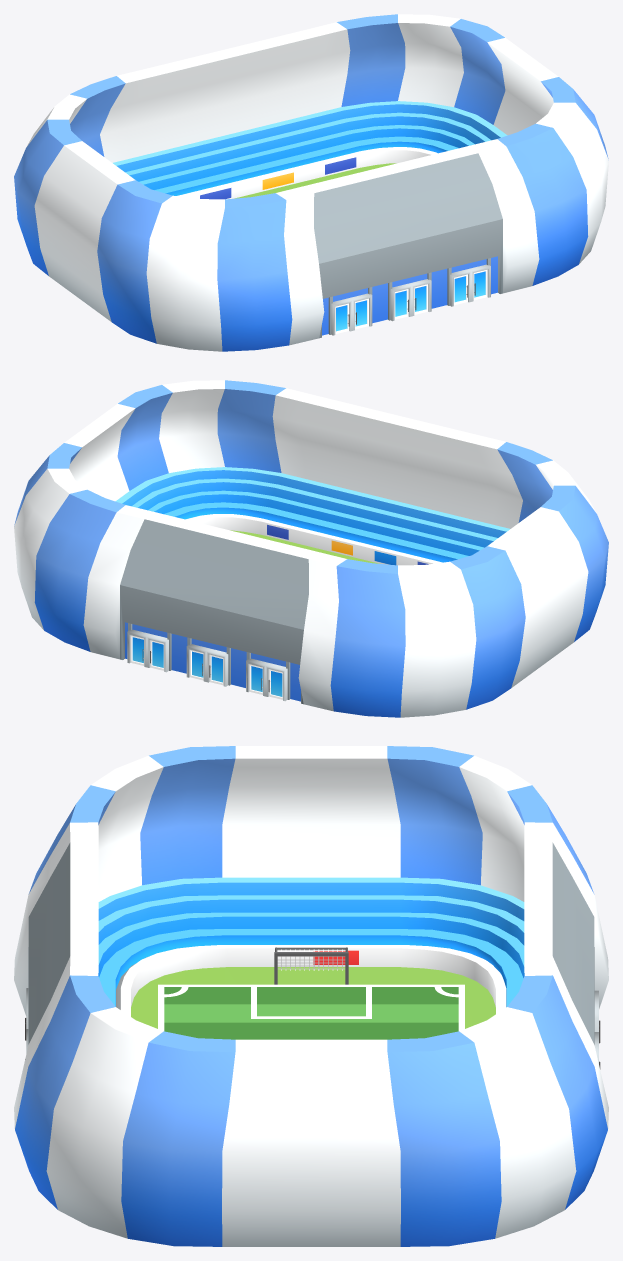
The model's file is Stadium_04.glb.
3 renders of one model, top to bottom at view 1: azimuth 30°, elevation 25°; view 2: azimuth 150°, elevation 25°; view 3: azimuth 270°, elevation 25°, orthographic. The views are drawn at different scales.
Parts seen in each view (by area): view 1: Stadium_04; view 2: Stadium_04; view 3: Stadium_04.
Boxes of the visible parts, left/top/right/bottom form: Stadium_04: left=14, top=14, right=608, bottom=351; Stadium_04: left=14, top=380, right=608, bottom=717; Stadium_04: left=14, top=746, right=608, bottom=1246.
Size of the model in its own units: 39.86 by 10.47 by 29.41.
1 material, 1 textured.
